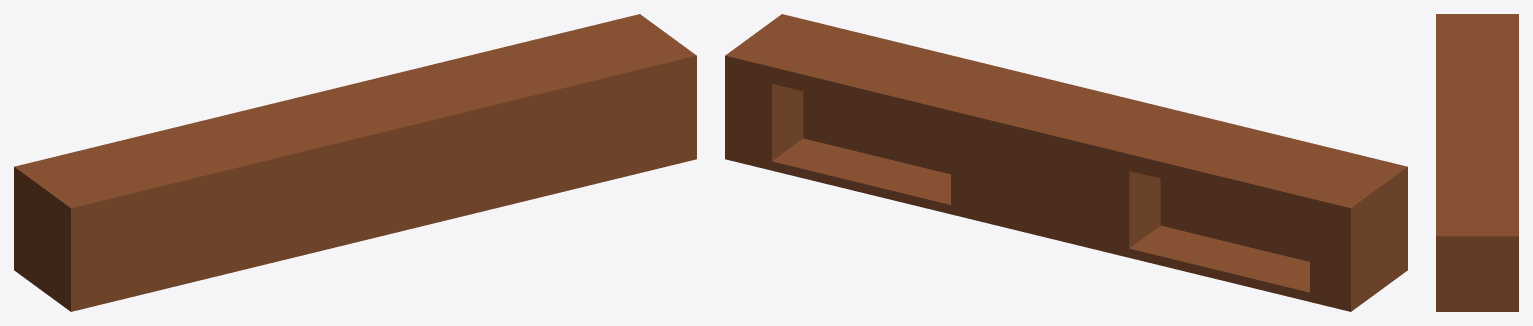
The model's file is Table02.fbx.
The picture shows the model from 3 angles, left to right: view 1: azimuth 30°, elevation 25°; view 2: azimuth 150°, elevation 25°; view 3: azimuth 270°, elevation 25°; orthographic projection. The views are drawn at different scales.
Visible parts, largest first — view 1: Cube; view 2: Cube; view 3: Cube.
Boxes of the visible parts, <box> form: Cube: <box>14,14,696,311</box>; Cube: <box>725,14,1407,311</box>; Cube: <box>1436,14,1518,311</box>.
Size of the model in its own units: 697 by 110 by 110.
